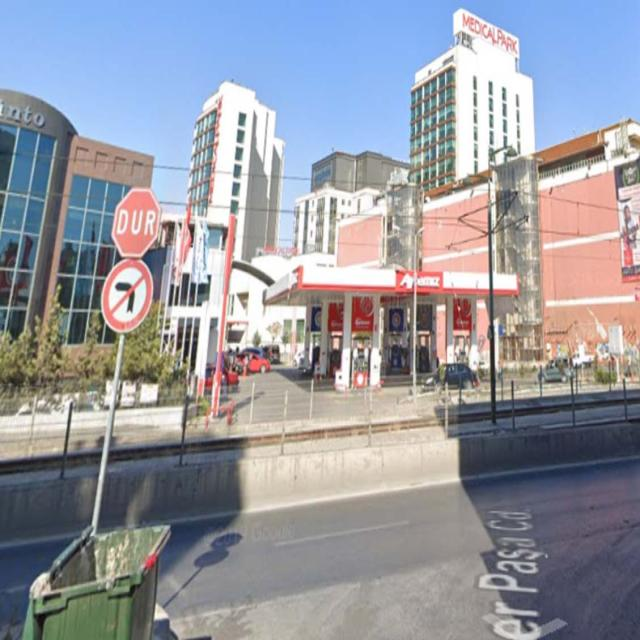dur: (111, 188, 162, 259)
soladonulmez: (105, 260, 151, 332)
